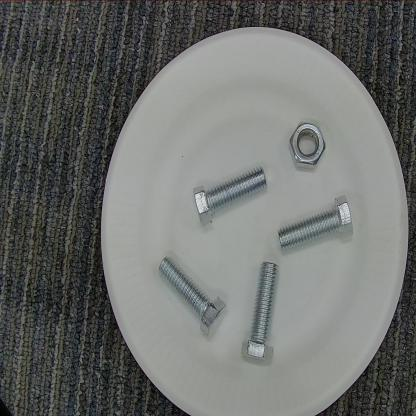FOD: (155, 253, 231, 339), (192, 162, 272, 229), (274, 194, 360, 251), (241, 256, 283, 365), (286, 119, 330, 173)
